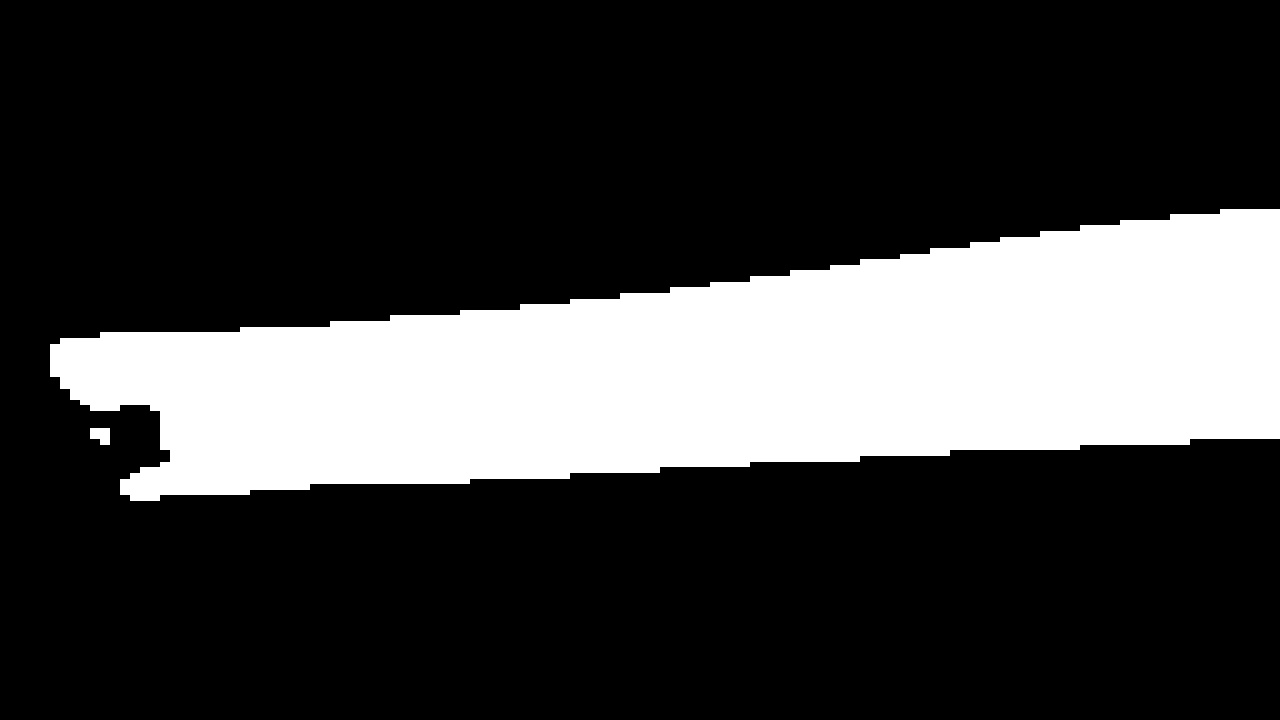Turbine: (45, 178, 1261, 536)
